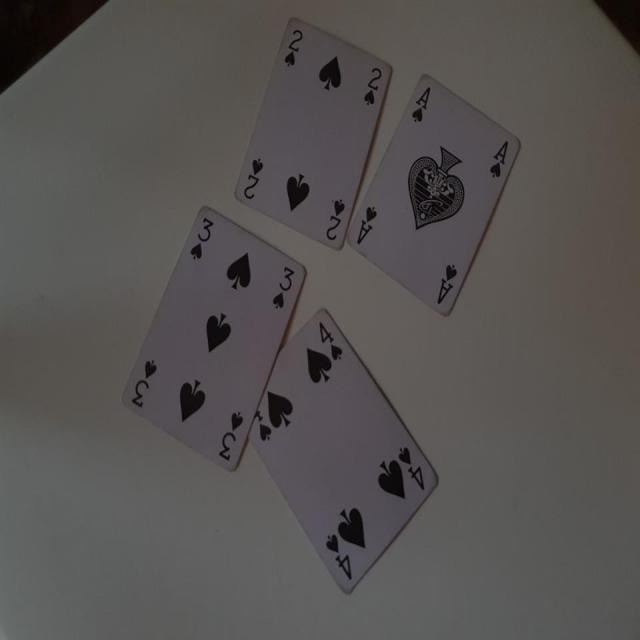2 Spades: (240, 25, 385, 258)
3 Spades: (133, 219, 295, 471)
4 Spades: (246, 318, 435, 594)
A Spades: (355, 86, 518, 311)
